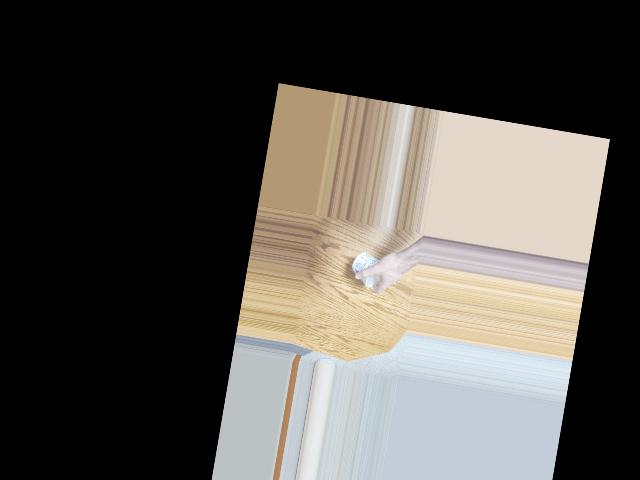cotage: (352, 247, 390, 290)
